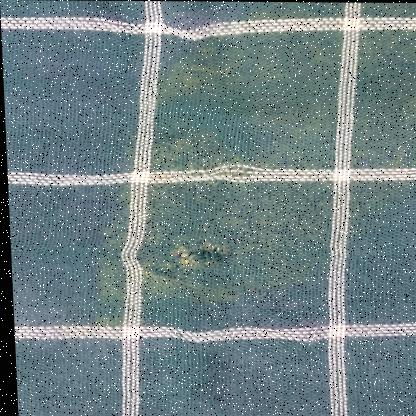spot: (132, 175, 332, 302), (252, 27, 335, 168), (356, 32, 416, 167), (87, 224, 129, 328), (227, 36, 253, 120), (200, 37, 227, 109), (345, 180, 371, 248), (246, 2, 343, 18), (367, 181, 409, 211), (150, 129, 179, 169), (181, 132, 211, 170), (177, 55, 198, 90), (360, 2, 416, 15), (156, 73, 175, 102), (349, 131, 364, 167), (212, 147, 237, 161), (125, 130, 133, 170)
